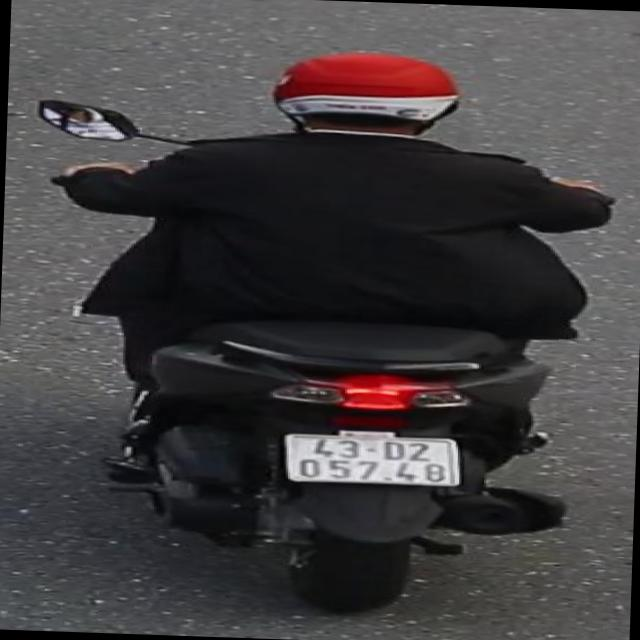LP: (276, 427, 464, 493)
helmet: (260, 42, 468, 150)
